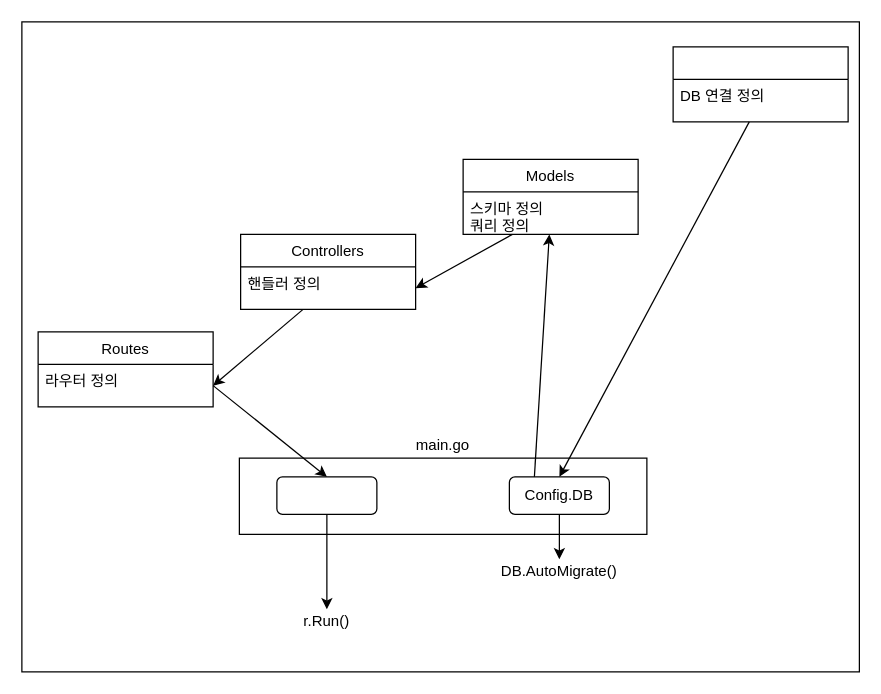
Image size: 881x694. Some labels were removed from this diagram. The shapes that lost their labels are listed below. From the top down, each one's box as (x1, y1, x2, y2) in pixels, then its label:
(672, 46, 848, 122): Config
(276, 476, 377, 514): r *gin.Engine
